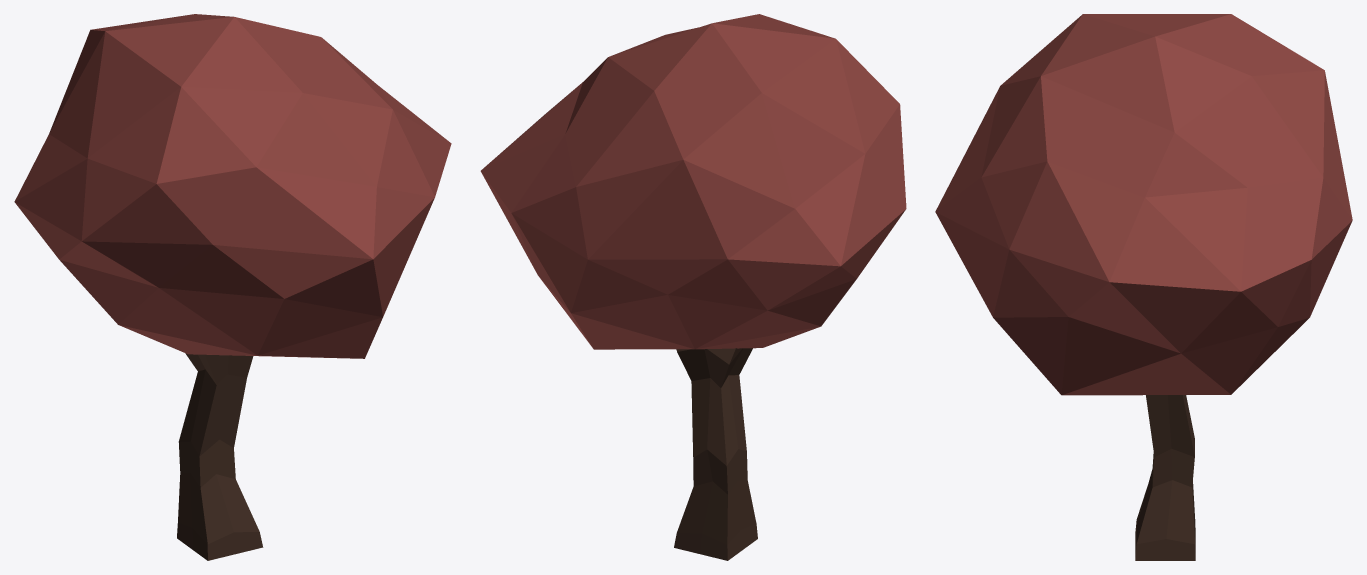
File: Tree_32_Red.fbx
The picture shows the model from 3 angles, left to right: view 1: azimuth 30°, elevation 25°; view 2: azimuth 150°, elevation 25°; view 3: azimuth 270°, elevation 25°; orthographic projection. The views are drawn at different scales.
Parts seen in each view (by area): view 1: Tree_32_Red_Part_1, Tree_32_Red_Part_2; view 2: Tree_32_Red_Part_1, Tree_32_Red_Part_2; view 3: Tree_32_Red_Part_1, Tree_32_Red_Part_2.
Boxes of the visible parts, bbox=[...] form: Tree_32_Red_Part_1: bbox=[14, 14, 451, 358]; Tree_32_Red_Part_2: bbox=[177, 353, 263, 560]; Tree_32_Red_Part_1: bbox=[480, 14, 906, 349]; Tree_32_Red_Part_2: bbox=[674, 348, 757, 560]; Tree_32_Red_Part_1: bbox=[935, 14, 1352, 395]; Tree_32_Red_Part_2: bbox=[1135, 395, 1195, 560].
Size of the model in its own units: 597 by 814 by 598.
